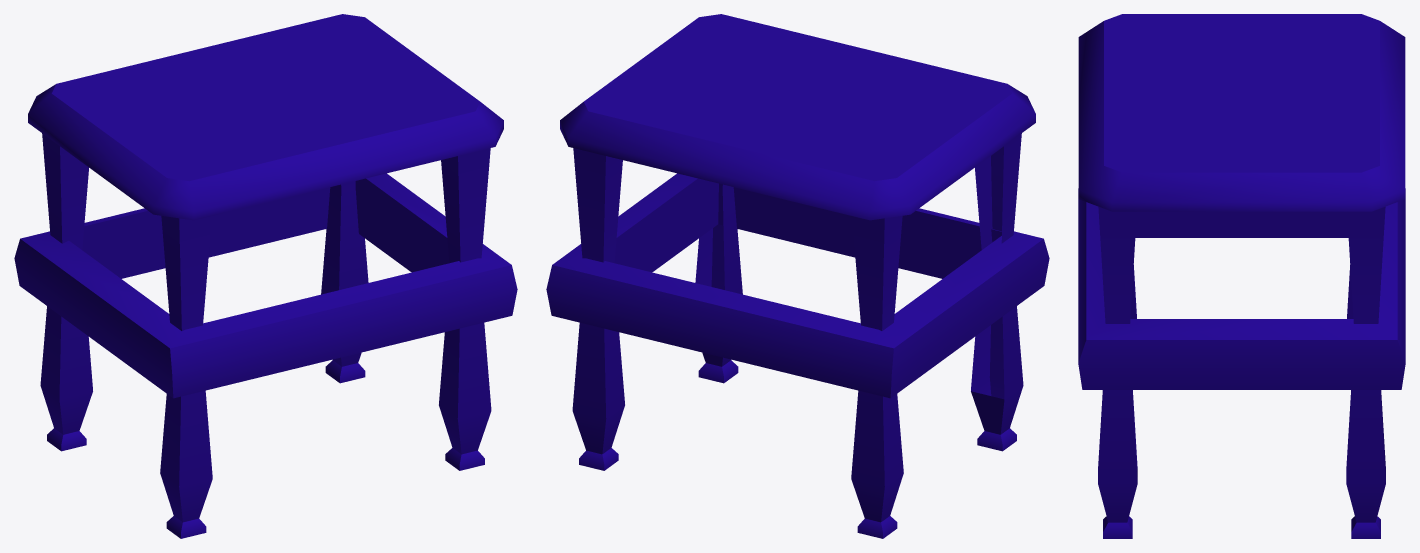
Rendered from CG_Model_TownInt_NightStand_Mar24_ChrisMcknight.FBX.
3 renders of one model, left to right at view 1: azimuth 30°, elevation 25°; view 2: azimuth 150°, elevation 25°; view 3: azimuth 270°, elevation 25°, orthographic. The views are drawn at different scales.
Visible parts, largest first — view 1: NightTable; view 2: NightTable; view 3: NightTable.
Boxes of the visible parts, x1,y1,x2,y2 form: NightTable: (14, 14, 517, 538); NightTable: (546, 14, 1049, 538); NightTable: (1078, 14, 1405, 538).
Bounding box in the file's own units: 14.35 × 13.9 × 11.18.
